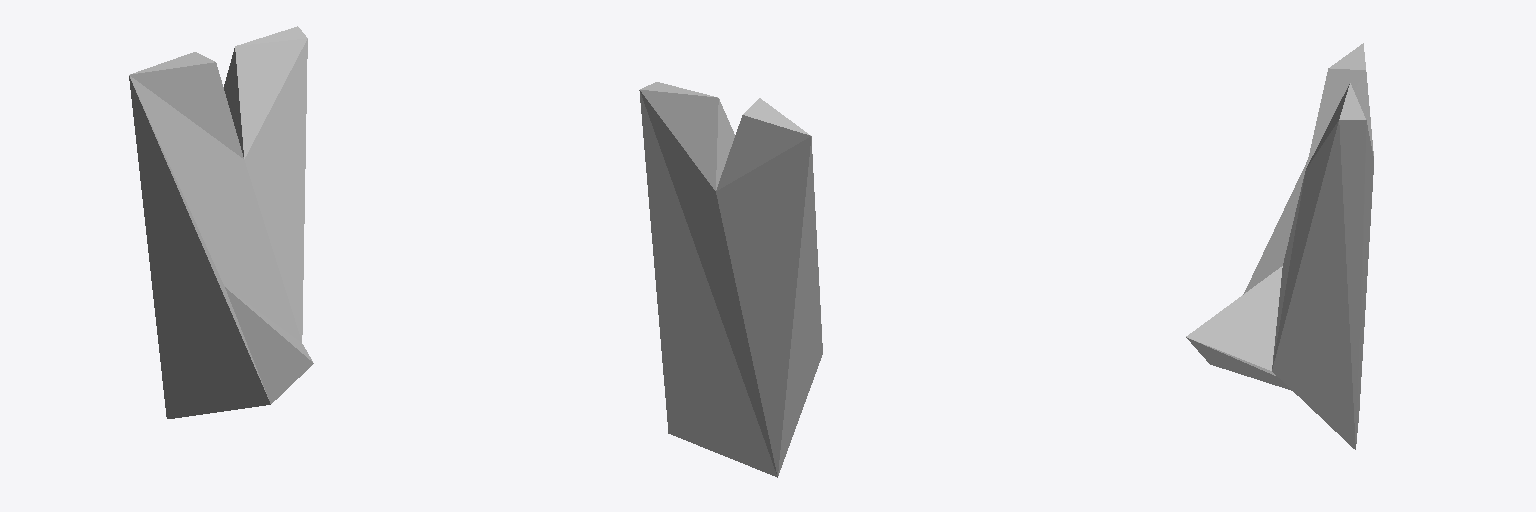
File: leftFoot.obj
3 views of the same model, side by side, from view 1: azimuth 30°, elevation 25°; view 2: azimuth 150°, elevation 25°; view 3: azimuth 270°, elevation 25° (orthographic).
Visible parts, largest first — view 1: node_shape0.005; view 2: node_shape0.005; view 3: node_shape0.005.
Part boxes in pixels (left/top/right/bottom): node_shape0.005: left=129, top=26, right=313, bottom=418; node_shape0.005: left=639, top=82, right=822, bottom=477; node_shape0.005: left=1186, top=43, right=1373, bottom=449.
Bounding box in the file's own units: 0.1246 × 0.2521 × 0.1193.